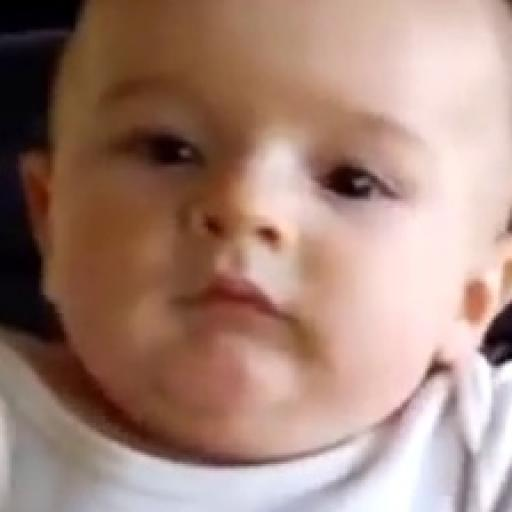Autism: (87, 0, 502, 467)
